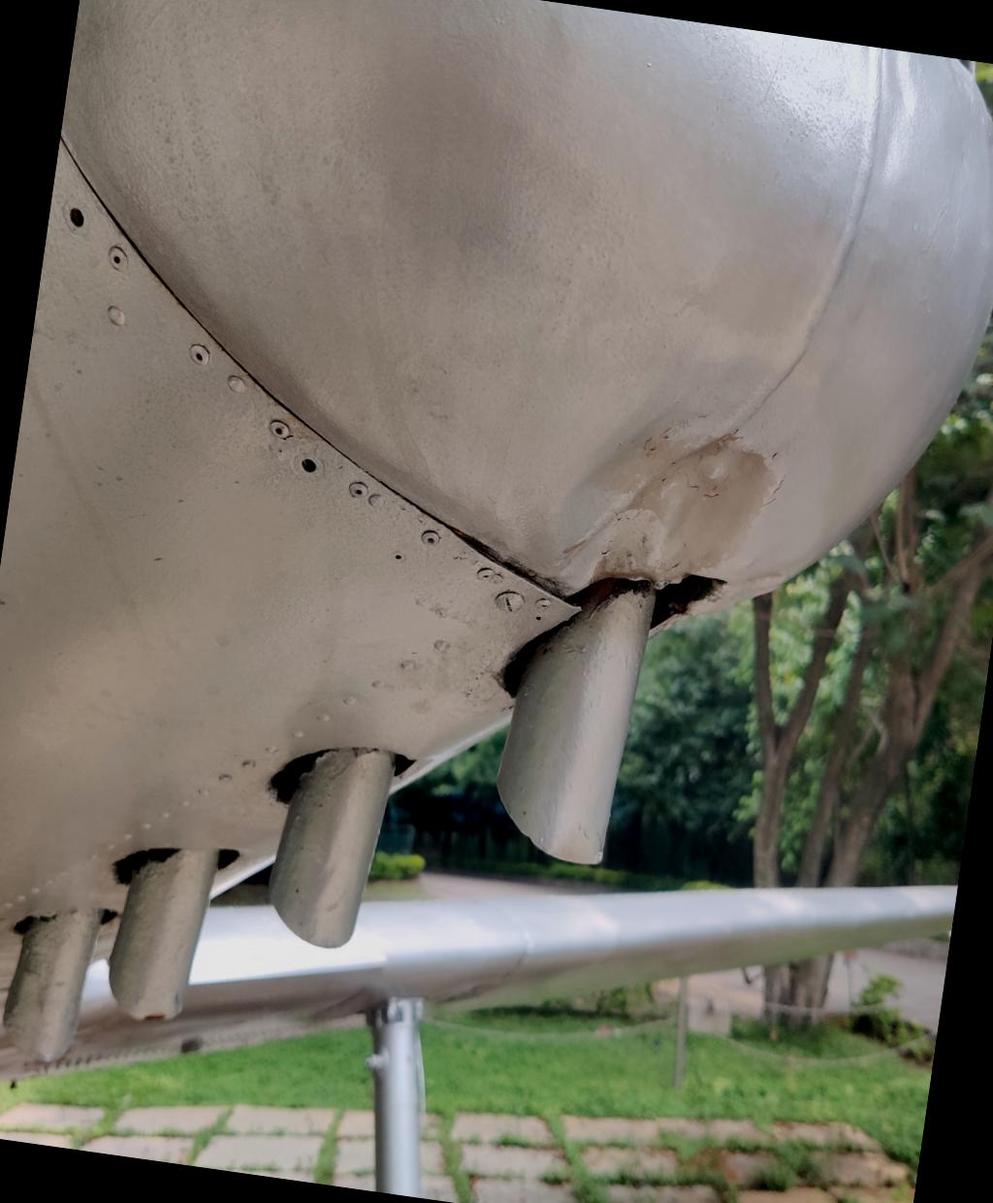dent: (535, 386, 785, 616)
